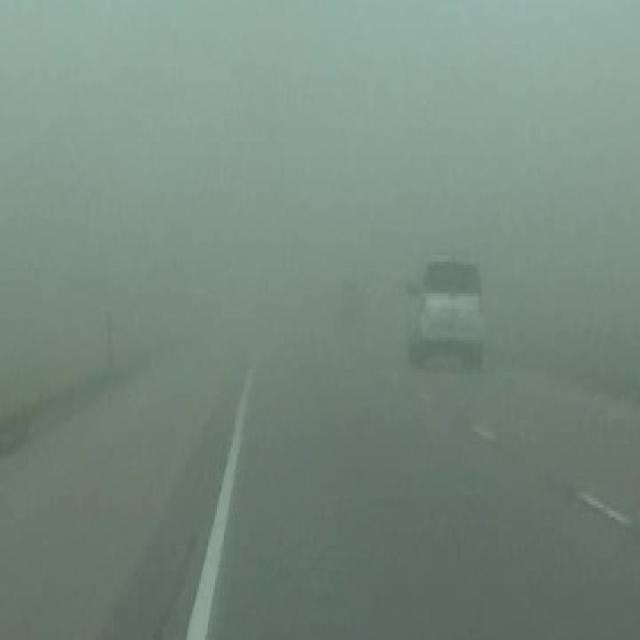car: (402, 252, 486, 376)
